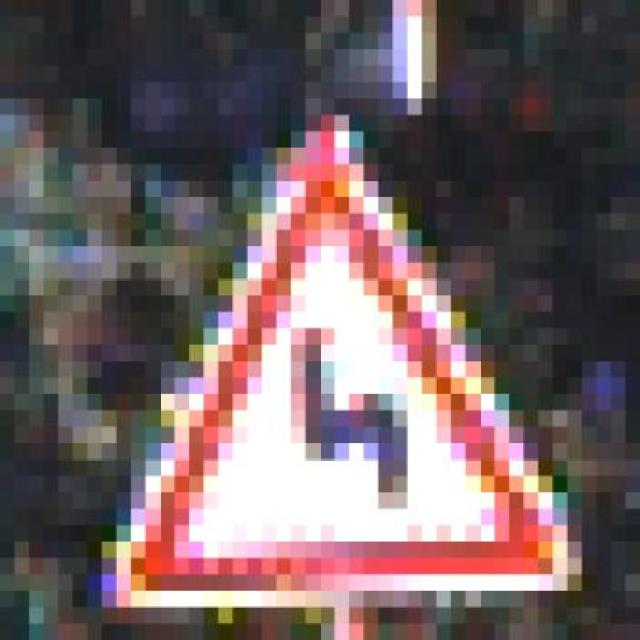Left Zig Zag Traffic: (101, 115, 582, 607)
